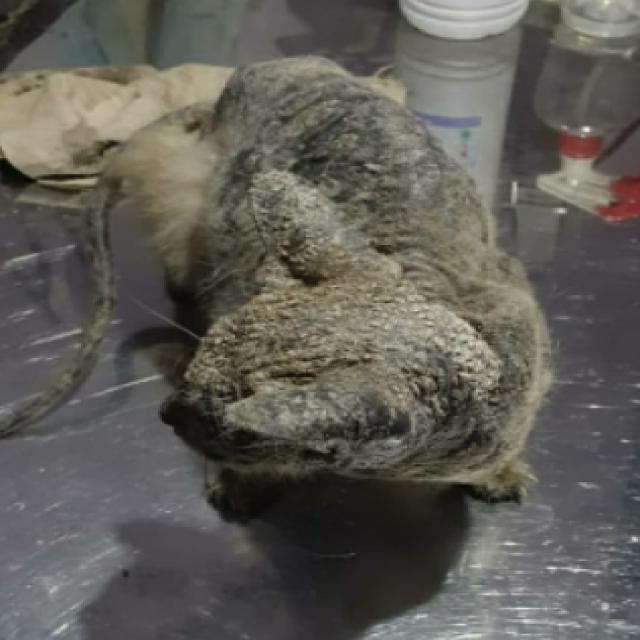ghe: (256, 120, 412, 294), (260, 340, 482, 443)
